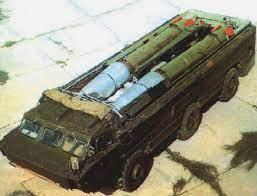rszo: (1, 7, 257, 193)
